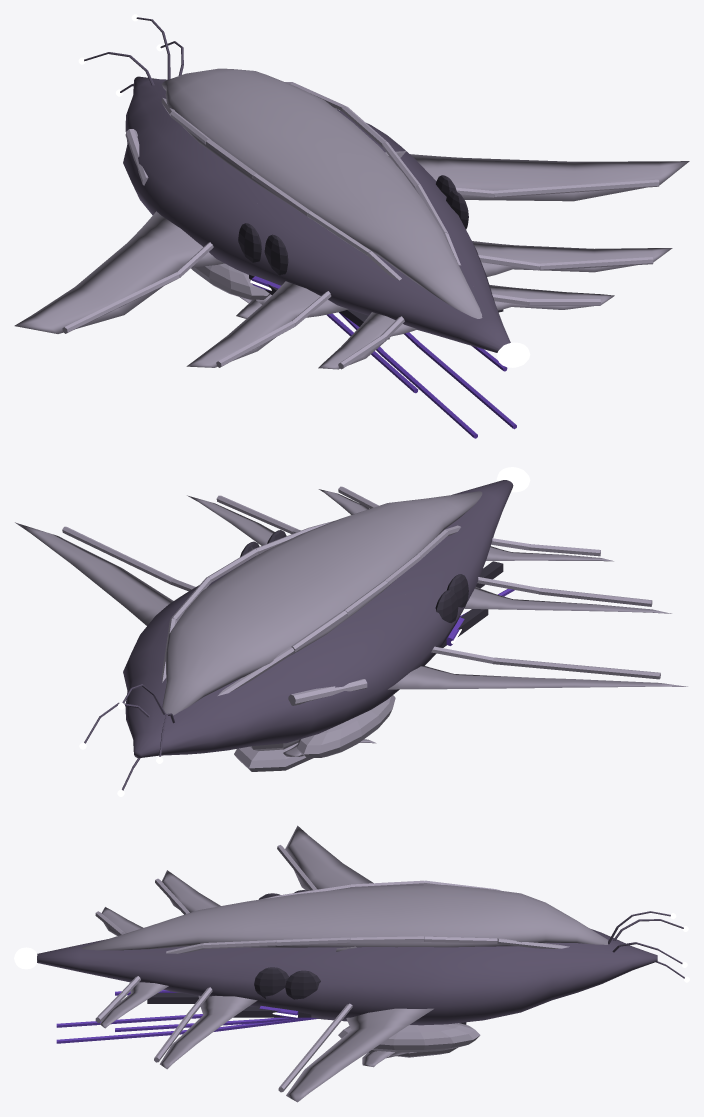
The picture shows the model from 3 angles, top to bottom: view 1: azimuth 30°, elevation 25°; view 2: azimuth 150°, elevation 25°; view 3: azimuth 270°, elevation 25°; orthographic projection. The views are drawn at different scales.
Parts seen in each view (by area): view 1: RIMWARD_HULL, RIMWARD_ENGINE_GLOW; view 2: RIMWARD_HULL, RIMWARD_ENGINE_GLOW; view 3: RIMWARD_HULL.
Boxes of the visible parts, <box> form: RIMWARD_HULL: <box>14,17,689,438</box>; RIMWARD_ENGINE_GLOW: <box>496,342,530,367</box>; RIMWARD_HULL: <box>15,480,687,790</box>; RIMWARD_ENGINE_GLOW: <box>496,467,530,492</box>; RIMWARD_HULL: <box>37,825,684,1102</box>.
Size of the model in its own units: 10.56 by 2.71 by 10.89.
